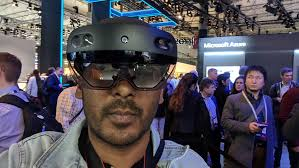hololens: (64, 24, 179, 93)
